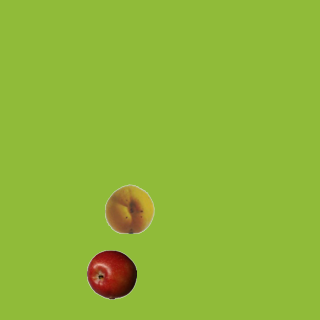Apple Braeburn: (86, 249, 136, 299)
Peach 2: (104, 183, 154, 233)
